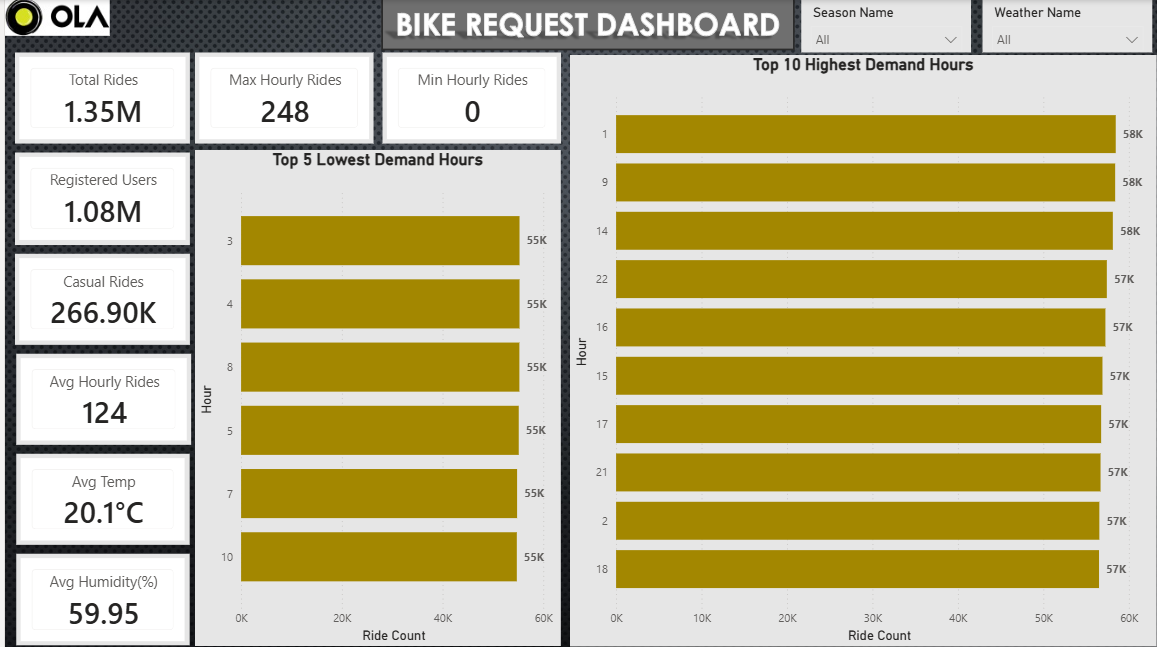

The dashboard page shown, as its layout file describes it:
{"tool":"powerbi","page":{"name":"Top 10 Analysis","canvas":[1280,720],"ordinal":3},"visuals":[{"type":"cardVisual","fields":{"Data":["Sum(OLA.Count)"]},"box":[11,57.6,192.1,100.2],"z":0},{"type":"cardVisual","fields":{"Data":["Max(OLA.Count)"]},"box":[208.6,57.6,196.2,100.2],"z":1000},{"type":"cardVisual","fields":{"Data":["OLA.AvgTemp"]},"box":[12.9,498.6,190,100],"z":2000},{"type":"cardVisual","fields":{"Data":["Min(OLA.Count)"]},"box":[414.4,57.6,196.2,100.2],"z":3000},{"type":"cardVisual","fields":{"Data":["Sum(OLA.Registered)"]},"box":[11,167.4,192.1,101.5],"z":5000},{"type":"cardVisual","fields":{"Data":["Sum(OLA.Casual)"]},"box":[11,278.6,192.1,100.2],"z":6000},{"type":"cardVisual","fields":{"Data":["OLA.Avg Hourly Rides"]},"box":[12.3,388.3,192.1,100.2],"z":7000},{"type":"cardVisual","fields":{"Data":["OLA.Average Humidity"]},"box":[12.9,608.6,190,101.4],"z":8000},{"type":"clusteredBarChart","title":"Top 10 Highest Demand Hours","fields":{"Category":["OLA.Hour"],"Y":["Sum(OLA.Count)"]},"box":[620,60,644.3,650],"z":9001},{"type":"clusteredBarChart","title":"Top 5 Lowest Demand Hours","fields":{"Category":["OLA.Hour"],"Y":["Sum(OLA.Count)"]},"box":[208.6,164.3,401.4,545.7],"z":9002},{"type":"slicer","fields":{"Values":["OLA.Season Name"]},"box":[874.1,0,186.6,57.6],"z":9003},{"type":"slicer","fields":{"Values":["OLA.Weather Name"]},"box":[1073.1,0,186.6,57.6],"z":9004}]}

Visuals, with their boxes in screenshot pixels (x1, y1, x2, y2), scaled from the page's 1280x720 canvas onto the 1157x647 screenshot:
cardVisual - Sum(OLA.Count): [left=10, top=52, right=184, bottom=142]
cardVisual - Max(OLA.Count): [left=189, top=52, right=366, bottom=142]
cardVisual - OLA.AvgTemp: [left=12, top=448, right=183, bottom=538]
cardVisual - Min(OLA.Count): [left=375, top=52, right=552, bottom=142]
cardVisual - Sum(OLA.Registered): [left=10, top=150, right=184, bottom=242]
cardVisual - Sum(OLA.Casual): [left=10, top=250, right=184, bottom=340]
cardVisual - OLA.Avg Hourly Rides: [left=11, top=349, right=185, bottom=439]
cardVisual - OLA.Average Humidity: [left=12, top=547, right=183, bottom=638]
"Top 10 Highest Demand Hours" clusteredBarChart: [left=560, top=54, right=1143, bottom=638]
"Top 5 Lowest Demand Hours" clusteredBarChart: [left=189, top=148, right=551, bottom=638]
slicer - OLA.Season Name: [left=790, top=0, right=959, bottom=52]
slicer - OLA.Weather Name: [left=970, top=0, right=1139, bottom=52]
